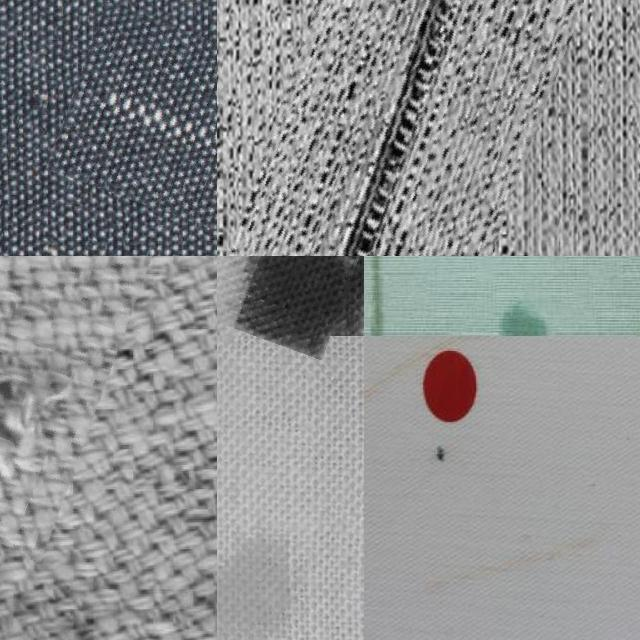Hole: (217, 256, 379, 347), (217, 514, 319, 640), (400, 423, 508, 513), (364, 256, 465, 335), (487, 285, 640, 335)
Thread_other: (217, 0, 558, 256), (54, 36, 217, 256)
seam: (0, 256, 130, 547)
